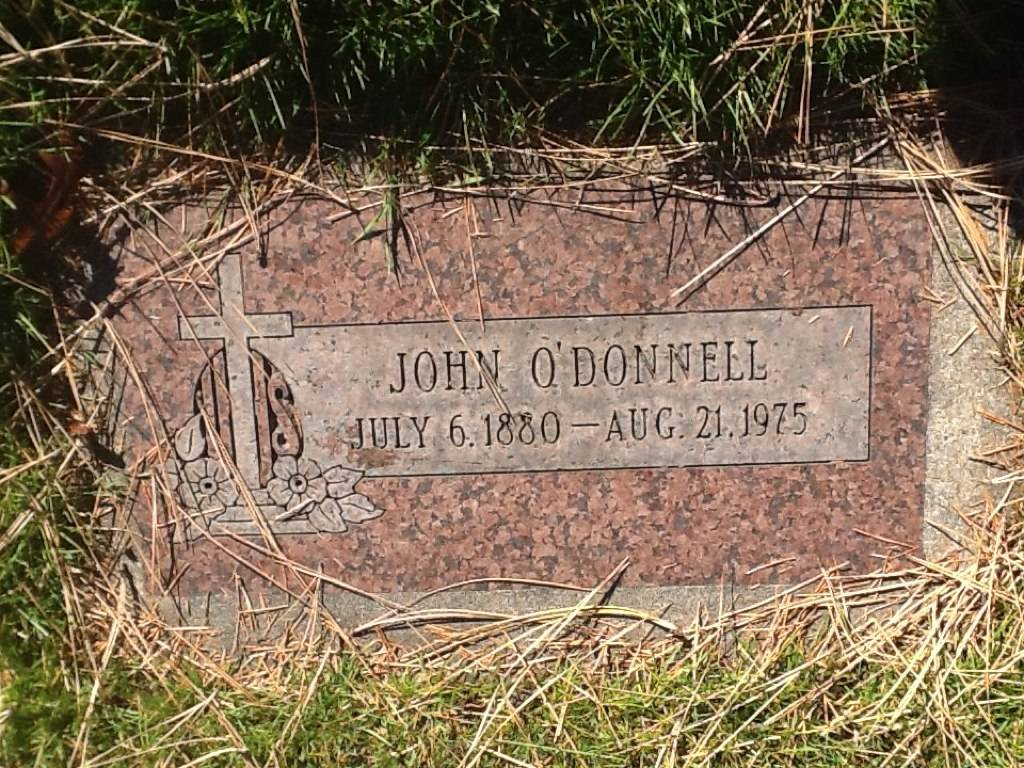flat: (63, 147, 987, 649)
